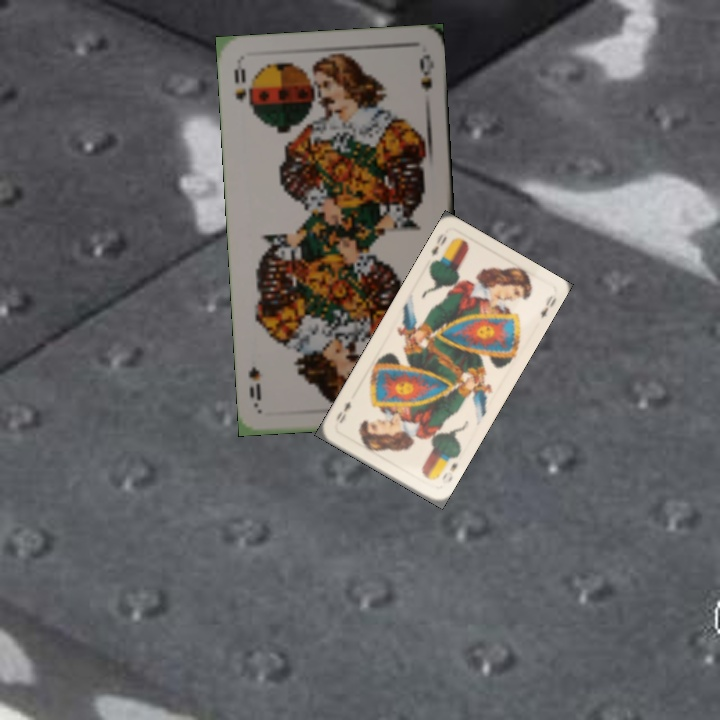EO: (427, 229, 450, 259), (438, 458, 460, 486)
SO: (230, 60, 253, 111)
